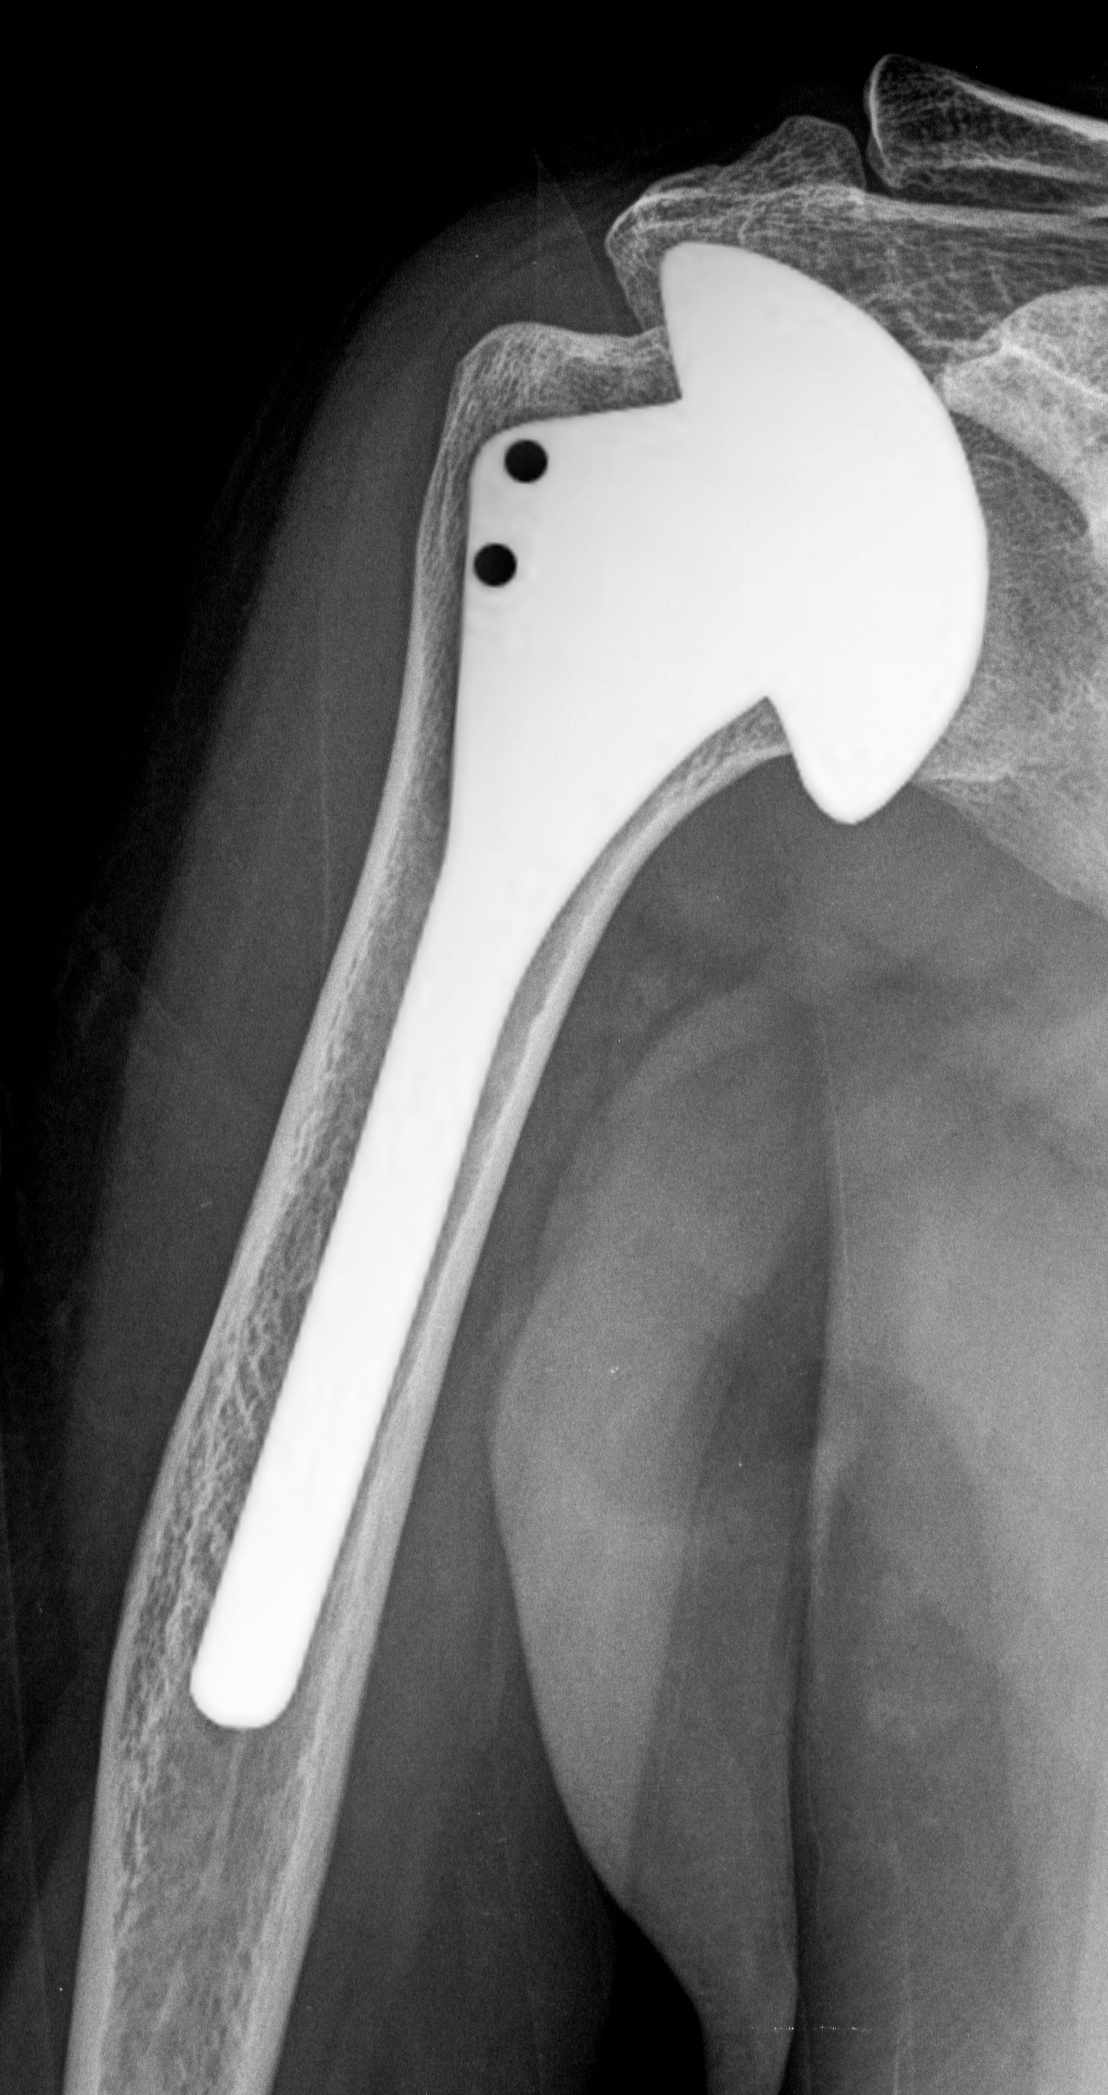Shoulder - Aequalishead - Tornier: (615, 204, 1015, 867)
Shoulder - Aequalistail - Tornier: (411, 229, 856, 939)
